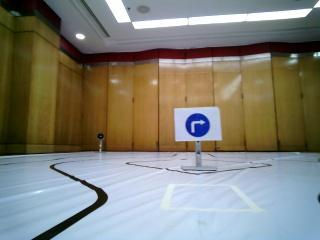right: (174, 106, 222, 142)
